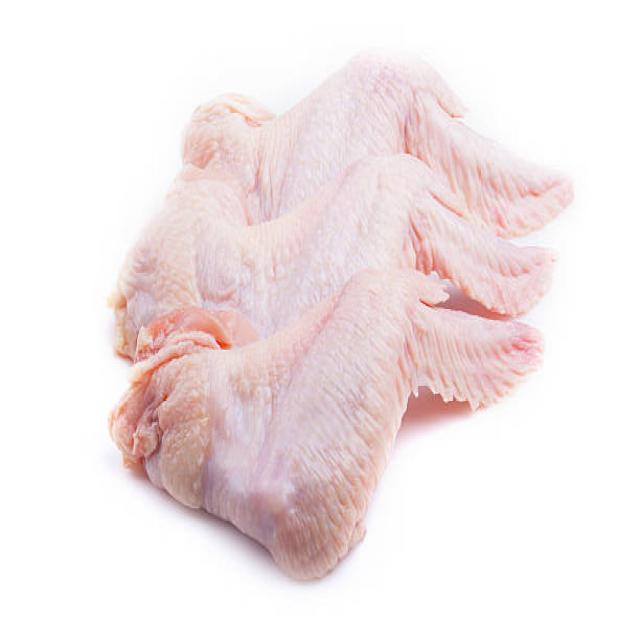chicken wing: (135, 292, 538, 582), (135, 157, 542, 317), (173, 49, 550, 198)
